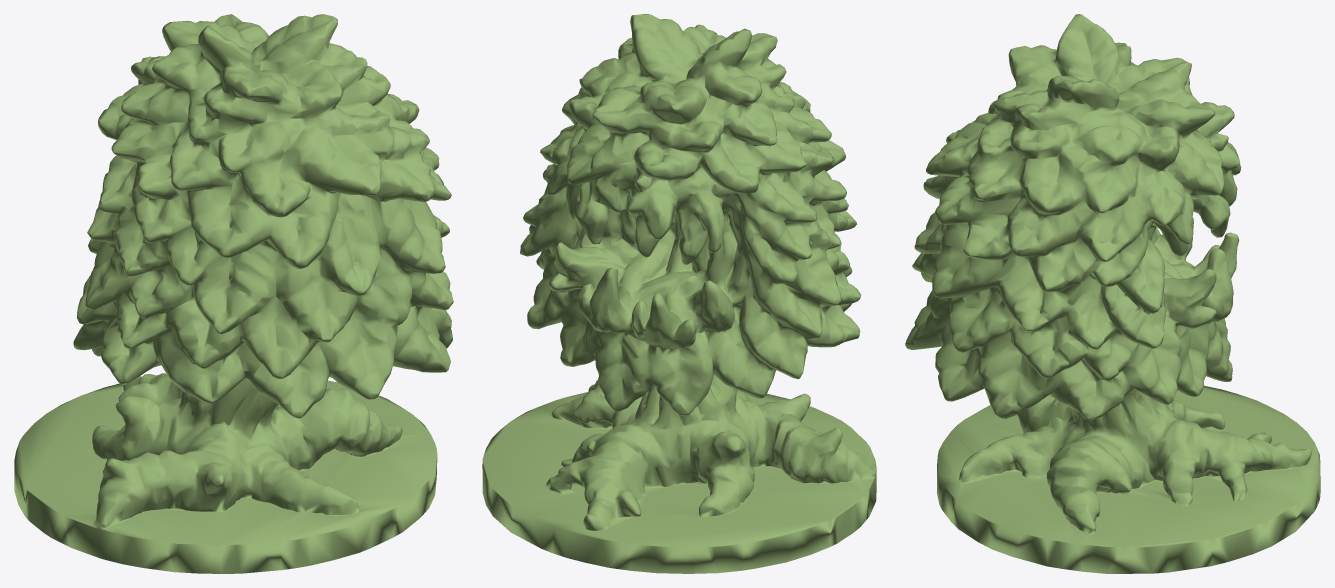
File: awakened-shrub.glb
3 views of the same model, side by side, from view 1: azimuth 30°, elevation 25°; view 2: azimuth 150°, elevation 25°; view 3: azimuth 270°, elevation 25° (orthographic). The views are drawn at different scales.
Visible parts, largest first — view 1: awakened-shrub; view 2: awakened-shrub; view 3: awakened-shrub.
Part boxes in pixels (left/top/right/bottom): awakened-shrub: left=14, top=14, right=453, bottom=573; awakened-shrub: left=482, top=14, right=876, bottom=573; awakened-shrub: left=905, top=14, right=1320, bottom=573.
Size of the model in its own units: 19.66 by 24.86 by 20.55.
